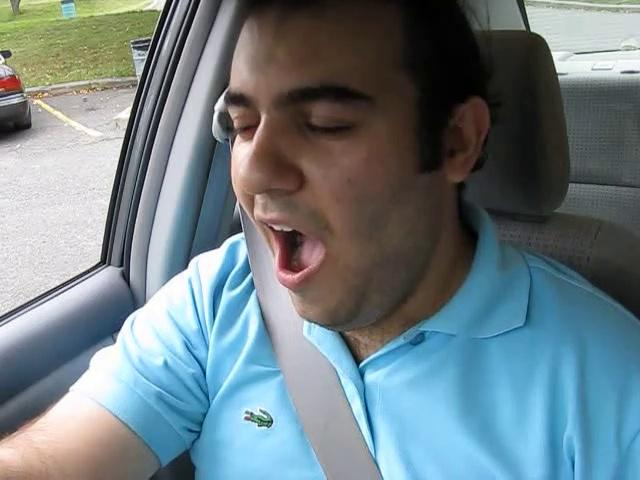close_eyeL: (217, 101, 268, 149)
close_eyeR: (282, 95, 377, 154)
yawn: (245, 209, 351, 290)
